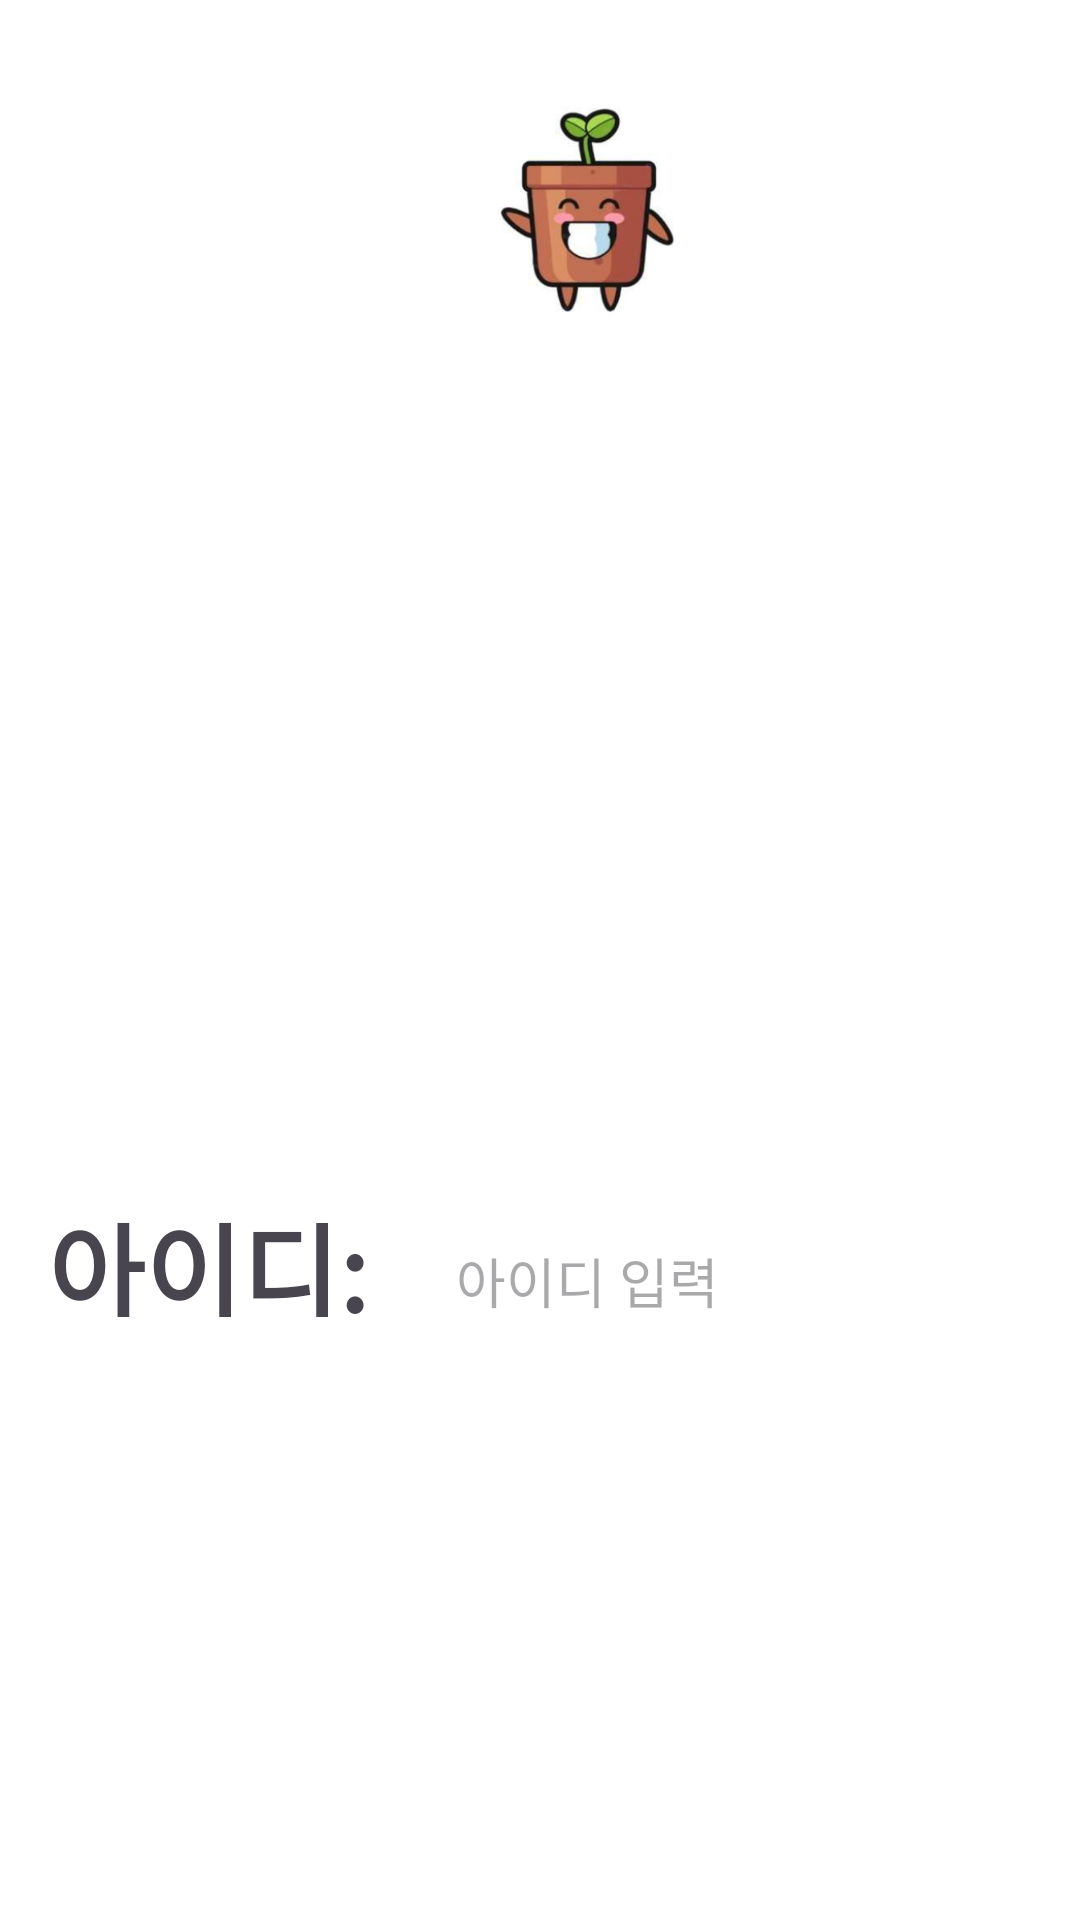

Screen size 1080 × 1920. Icon name, then its box in pixels as (x1,y1,x2,y2):
smile: (500,108,674,312)
